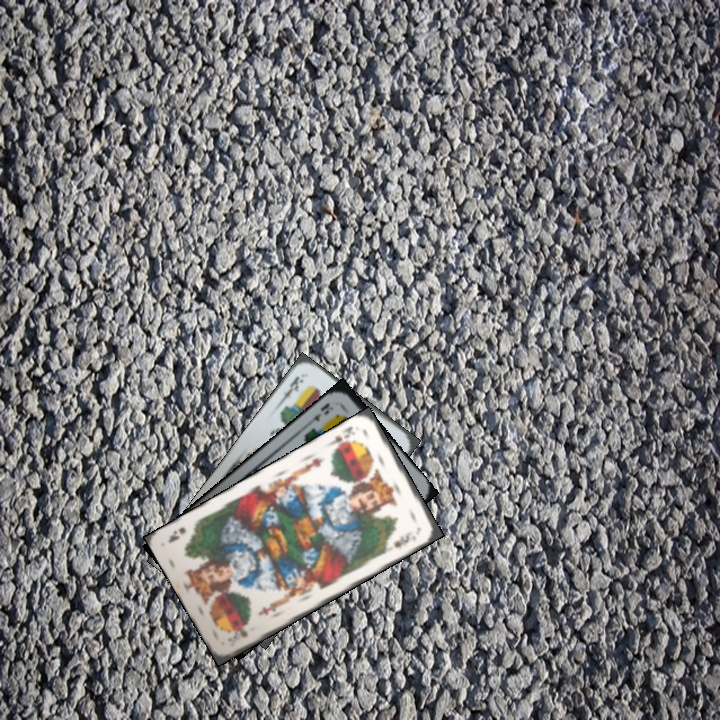EK: (276, 372, 306, 406), (305, 399, 336, 427)
SK: (325, 422, 357, 454), (224, 626, 251, 645)
